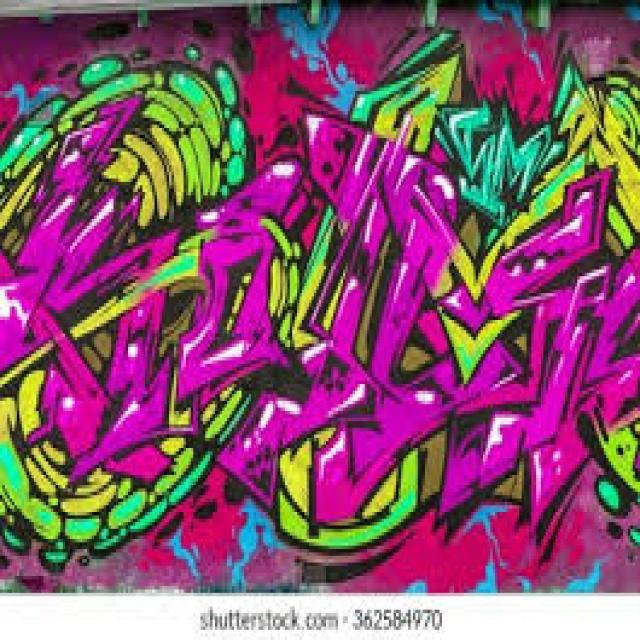-: (1, 8, 640, 592)
